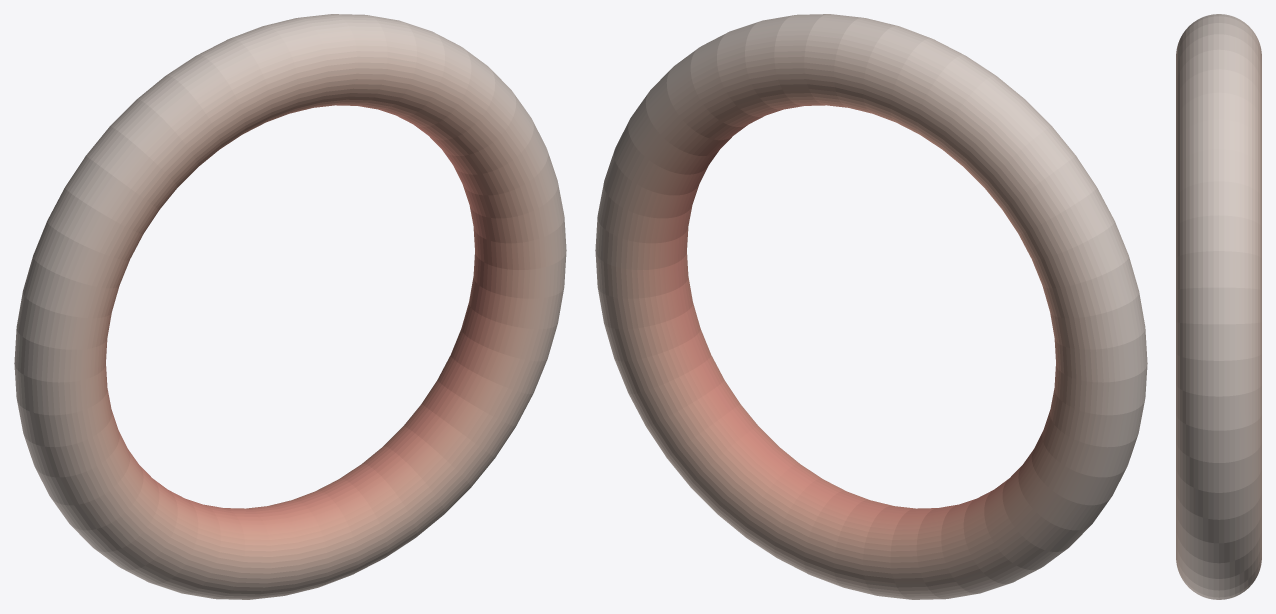
3 renders of one model, left to right at view 1: azimuth 30°, elevation 25°; view 2: azimuth 150°, elevation 25°; view 3: azimuth 270°, elevation 25°, orthographic. The views are drawn at different scales.
Parts seen in each view (by area): view 1: world; view 2: world; view 3: world.
Boxes of the visible parts, x1,y1,x2,y2 form: world: (14, 14, 566, 599); world: (595, 14, 1147, 599); world: (1176, 14, 1261, 599).
Size of the model in its own units: 33.6 by 33.53 by 4.92.
